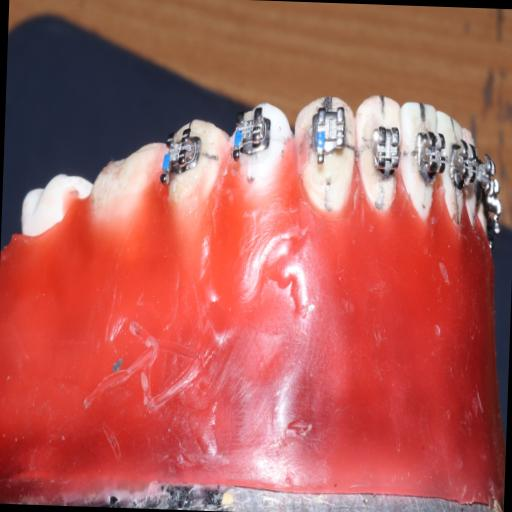correct_brace: (368, 118, 402, 182)
incorrect_brace: (350, 84, 404, 218), (304, 100, 349, 167)
